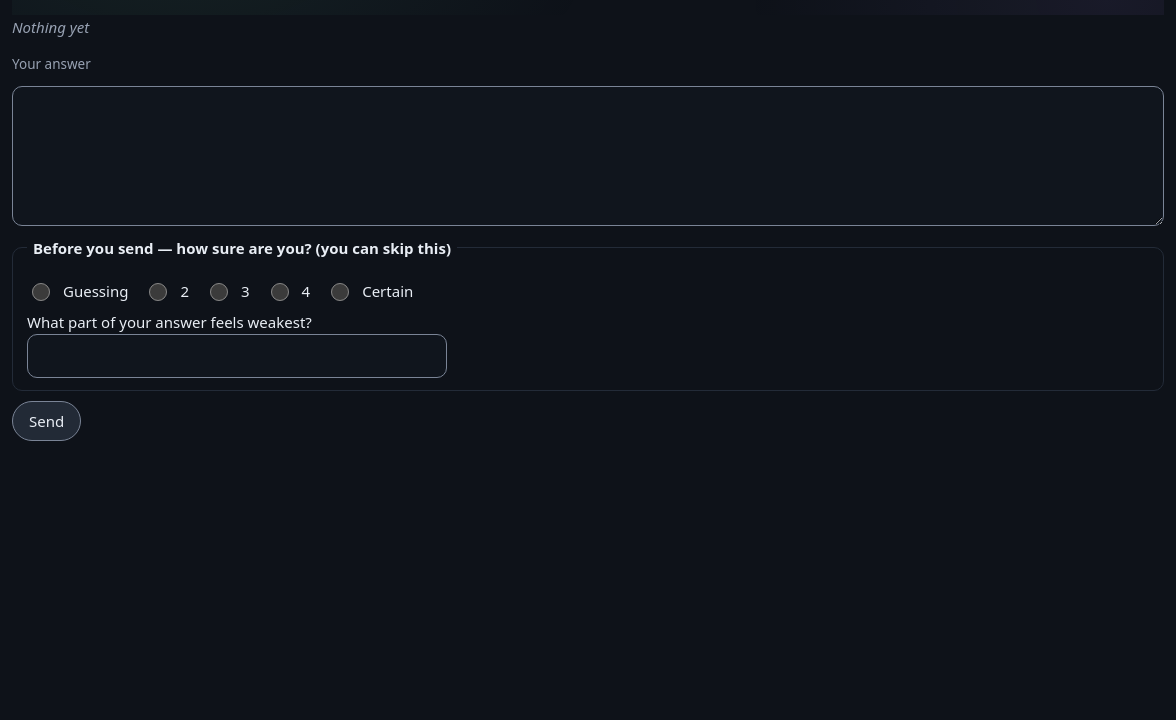
a send the evaluator never answers › offers a Retry control that resends the restored text
Type "my answer" into the text box with test id "chat-text" at (588, 156), box [12,86,1164,226]
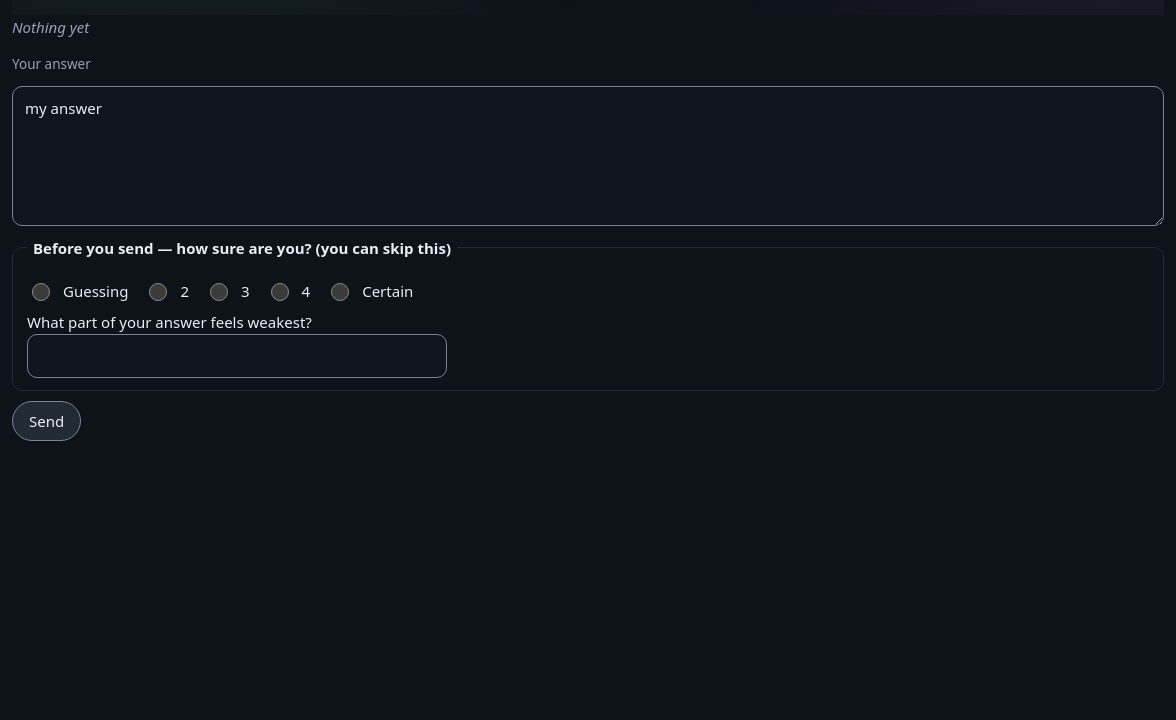
Click the button with test id "chat-send" at (47, 421), box [12,401,81,441]
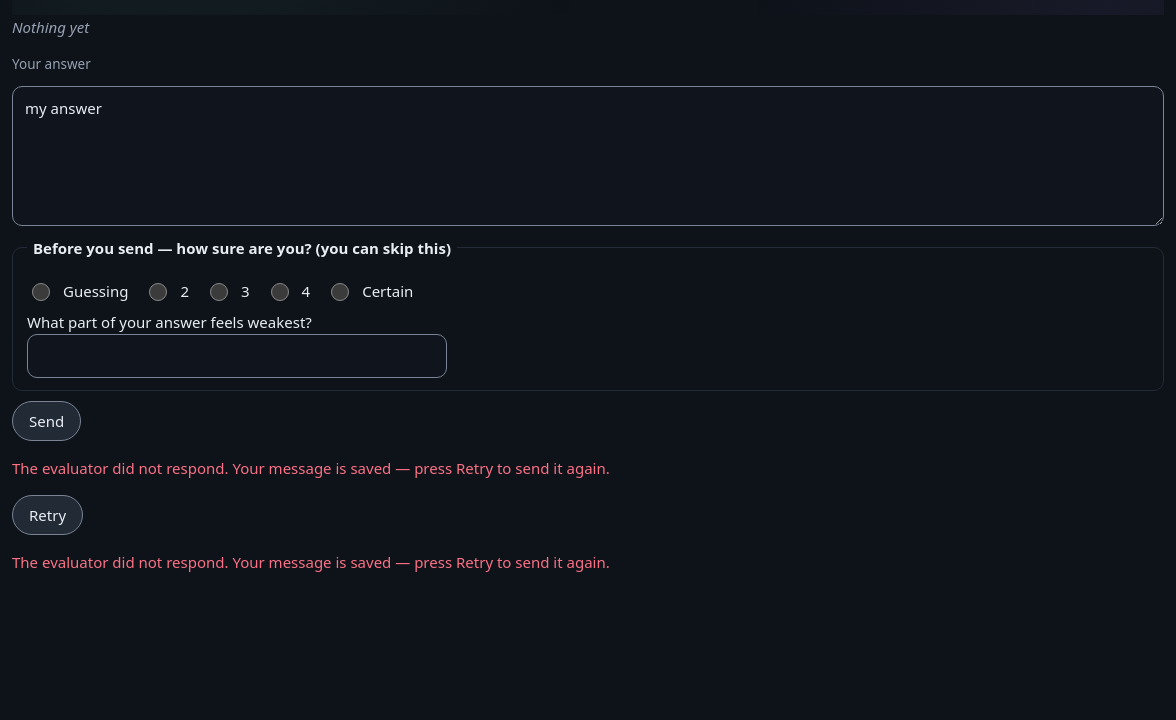
expect the message with test id "chat-composer-error" shows "did not respond": met, box [12,458,610,478]
Click the button with test id "chat-retry" at (48, 515), box [12,495,83,535]
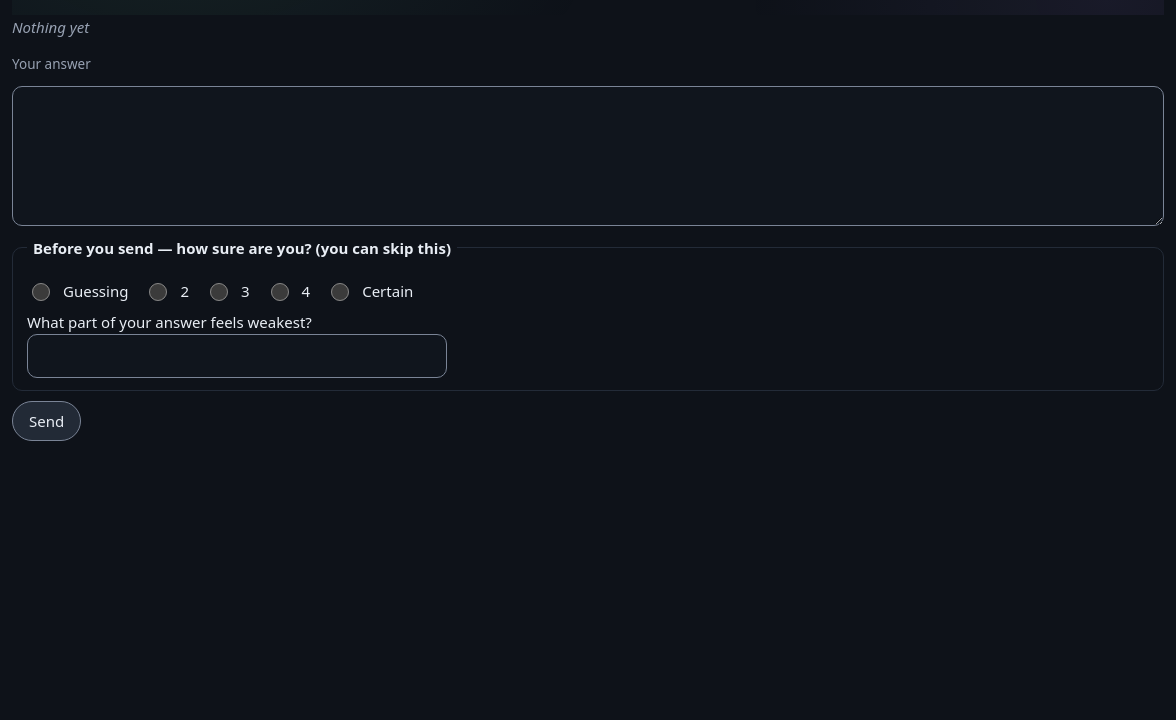
expect the message with test id "chat-composer-error" is gone: met
